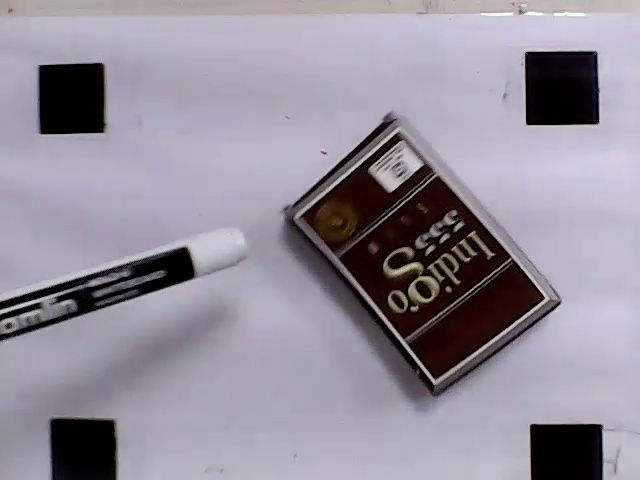BEX: (298, 129, 547, 381)
